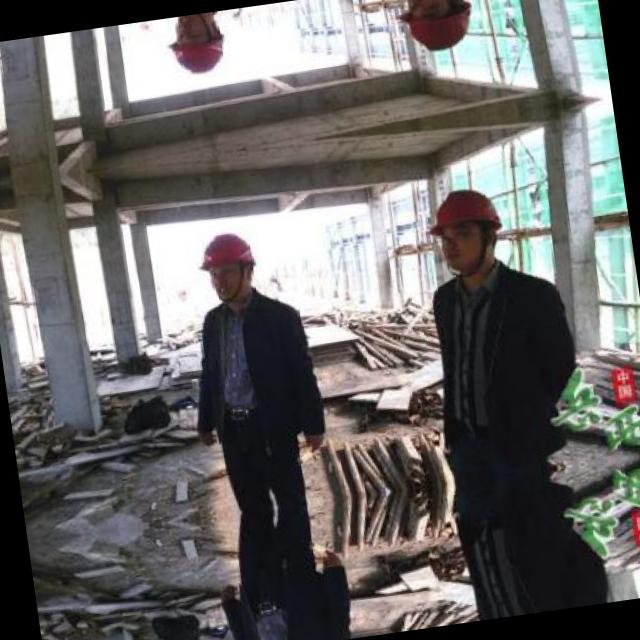helmet: (415, 176, 513, 280), (189, 222, 268, 306), (386, 0, 484, 65), (158, 10, 237, 85)
